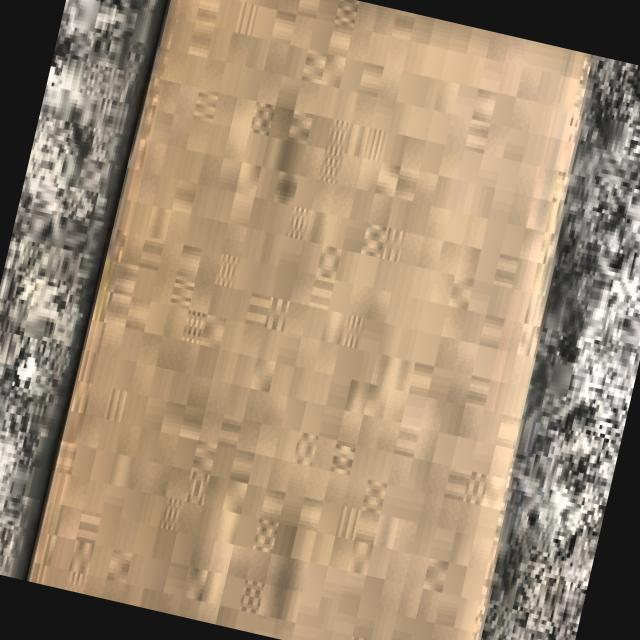cardboard: (23, 0, 618, 640)
